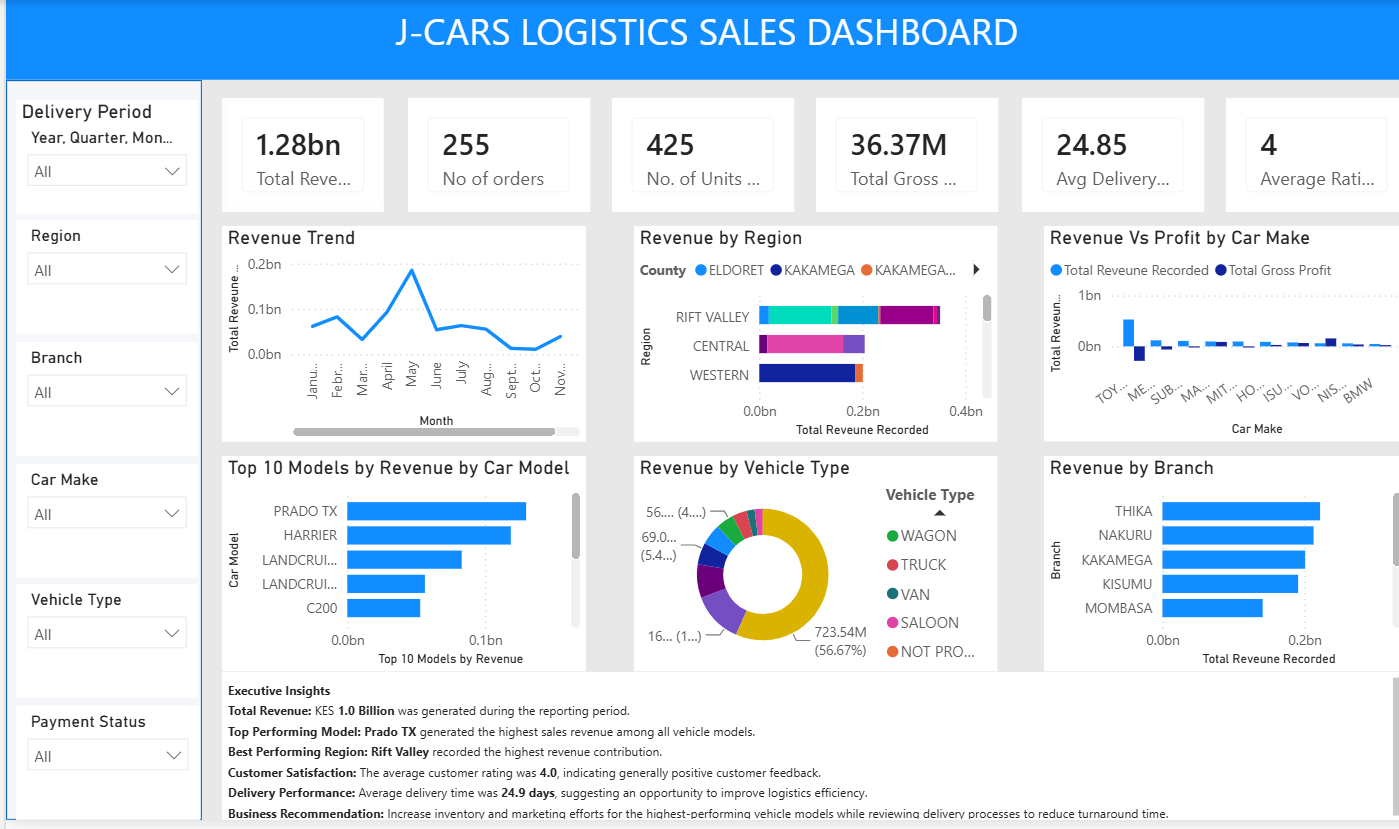

The dashboard page shown, as its layout file describes it:
{"tool":"powerbi","page":{"name":"Executive dashboard","canvas":[1280,720],"ordinal":0},"visuals":[{"type":"shape","box":[0,70.2,172.1,649.7],"z":0},{"type":"textbox","box":[0,0,1230.8,70.2],"z":1000},{"type":"slicer","title":"Delivery Period","fields":{"Values":["public jcars.Delivery Date.Variation.Date Hierarchy.Year","public jcars.Delivery Date.Variation.Date Hierarchy.Quarter","public jcars.Delivery Date.Variation.Date Hierarchy.Month","public jcars.Delivery Date.Variation.Date Hierarchy.Day"]},"box":[8.8,87.1,160,100],"z":2000},{"type":"slicer","fields":{"Values":["public jcars.Region"]},"box":[8.8,193.6,159.8,100.1],"z":3000},{"type":"slicer","fields":{"Values":["public jcars.Vehicle Type"]},"box":[8.8,513.3,159.8,100.1],"z":4000},{"type":"slicer","fields":{"Values":["public jcars.Payment Status"]},"box":[8.8,619.8,161.5,100.1],"z":5000},{"type":"slicer","fields":{"Values":["public jcars.Car Make"]},"box":[8.8,406.7,159.8,100.1],"z":6000},{"type":"slicer","fields":{"Values":["public jcars.Branch"]},"box":[8.8,300.1,159.8,100.1],"z":7000},{"type":"cardVisual","fields":{"Data":["Sum(public jcars.Revenue Recorded)"]},"box":[190,86,142.2,100.1],"z":8000},{"type":"cardVisual","fields":{"Data":["public jcars.No of orders"]},"box":[352.2,86,159.8,100.1],"z":9000},{"type":"cardVisual","fields":{"Data":["Sum(public jcars.Units Sold)"]},"box":[531.9,86,159.8,100.1],"z":10000},{"type":"cardVisual","fields":{"Data":["public jcars.Total Gross Profit"]},"box":[711.6,86,159.8,100.1],"z":11000},{"type":"cardVisual","fields":{"Data":["public jcars.Avg Delivery Time (Days)"]},"box":[891.3,86,159.8,100.1],"z":12000},{"type":"cardVisual","fields":{"Data":["public jcars.Average Rating"]},"box":[1071.1,86,159.8,100.1],"z":13000},{"type":"lineChart","title":"Revenue Trend","fields":{"Category":["public jcars.Delivery Date.Variation.Date Hierarchy.Month"],"Y":["public jcars.Total Reveune Recorded"]},"box":[189.6,198.4,319.6,189.6],"z":14000},{"type":"barChart","title":"Revenue by Region","fields":{"Category":["public jcars.Region"],"Y":["public jcars.Total Reveune Recorded"],"Series":["public jcars.County"]},"box":[550.7,198.4,319,189.6],"z":15000},{"type":"barChart","fields":{"Category":["public jcars.Car Model"],"Y":["public jcars.Total Reveune Recorded"]},"box":[189.6,400.3,319.6,189],"z":16000},{"type":"clusteredColumnChart","title":"Revenue Vs Profit by Car Make","fields":{"Category":["public jcars.Car Make"],"Y":["public jcars.Total Reveune Recorded","public jcars.Total Gross Profit"]},"box":[911.3,198.4,319.6,189],"z":17000},{"type":"textbox","box":[189.6,590,1041.2,133.4],"z":18000},{"type":"donutChart","title":"Revenue by Vehicle Type","fields":{"Category":["public jcars.Vehicle Type"],"Y":["public jcars.Total Reveune Recorded"]},"box":[550.6,400.3,319,189],"z":19000},{"type":"clusteredBarChart","title":"Revenue by Branch","fields":{"Category":["public jcars.Branch"],"Y":["public jcars.Total Reveune Recorded"]},"box":[911,400.3,319,189],"z":20000}]}

Visuals, with their boxes on the page's 1280x720 design canvas (x1, y1, x2, y2). These are canvas units, not pixel positions in the 1399x829 screenshot, which may show the page scaled, cropped or inside an application window:
shape: bbox=(0, 70, 172, 720)
textbox: bbox=(0, 0, 1231, 70)
"Delivery Period" slicer: bbox=(9, 87, 169, 187)
slicer - public jcars.Region: bbox=(9, 194, 169, 294)
slicer - public jcars.Vehicle Type: bbox=(9, 513, 169, 613)
slicer - public jcars.Payment Status: bbox=(9, 620, 170, 720)
slicer - public jcars.Car Make: bbox=(9, 407, 169, 507)
slicer - public jcars.Branch: bbox=(9, 300, 169, 400)
cardVisual - Sum(public jcars.Revenue Recorded): bbox=(190, 86, 332, 186)
cardVisual - public jcars.No of orders: bbox=(352, 86, 512, 186)
cardVisual - Sum(public jcars.Units Sold): bbox=(532, 86, 692, 186)
cardVisual - public jcars.Total Gross Profit: bbox=(712, 86, 871, 186)
cardVisual - public jcars.Avg Delivery Time (Days): bbox=(891, 86, 1051, 186)
cardVisual - public jcars.Average Rating: bbox=(1071, 86, 1231, 186)
"Revenue Trend" lineChart: bbox=(190, 198, 509, 388)
"Revenue by Region" barChart: bbox=(551, 198, 870, 388)
barChart - public jcars.Car Model x public jcars.Total Reveune Recorded: bbox=(190, 400, 509, 589)
"Revenue Vs Profit by Car Make" clusteredColumnChart: bbox=(911, 198, 1231, 387)
textbox: bbox=(190, 590, 1231, 723)
"Revenue by Vehicle Type" donutChart: bbox=(551, 400, 870, 589)
"Revenue by Branch" clusteredBarChart: bbox=(911, 400, 1230, 589)
